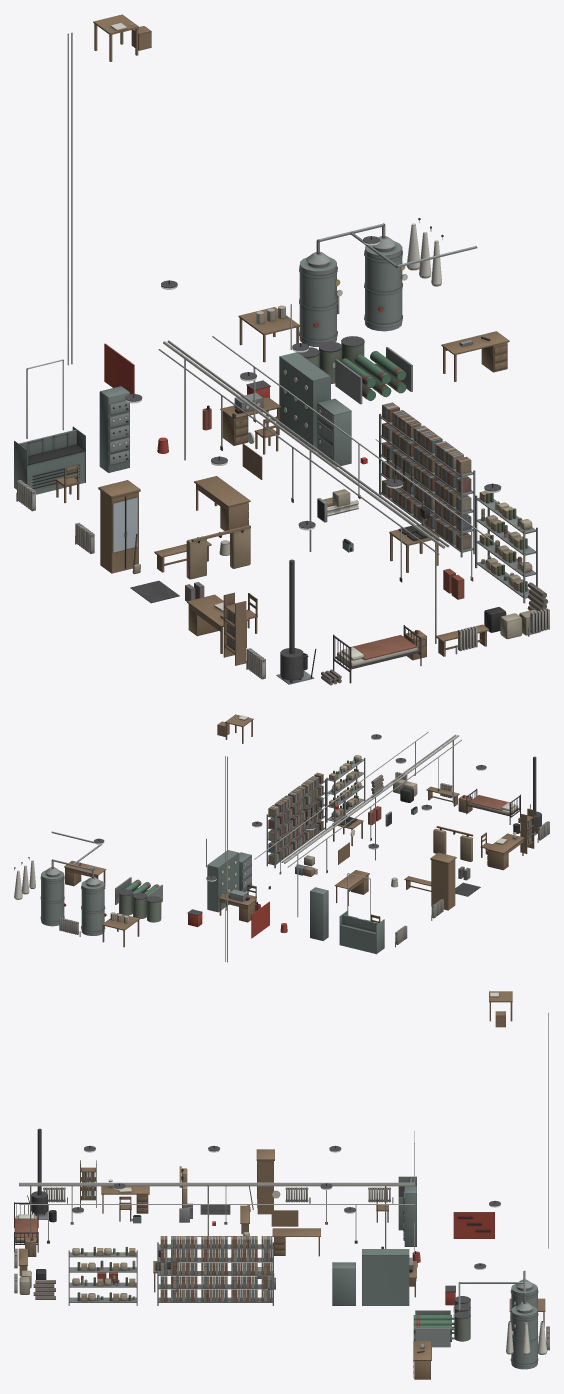
Rendered from corpus_furn.glb.
3 renders of one model, top to bottom at view 1: azimuth 30°, elevation 25°; view 2: azimuth 150°, elevation 25°; view 3: azimuth 270°, elevation 25°, orthographic. The views are drawn at different scales.
Parts seen in each view (by area): view 1: corpus_furn; view 2: corpus_furn; view 3: corpus_furn.
Part boxes in pixels (x1,y1,x2,y2): corpus_furn: [14, 14, 549, 685]; corpus_furn: [14, 714, 549, 962]; corpus_furn: [14, 991, 549, 1379].
Size of the model in its own units: 14.13 by 10.12 by 18.13.
Materials: 1 (1 with a texture image).
